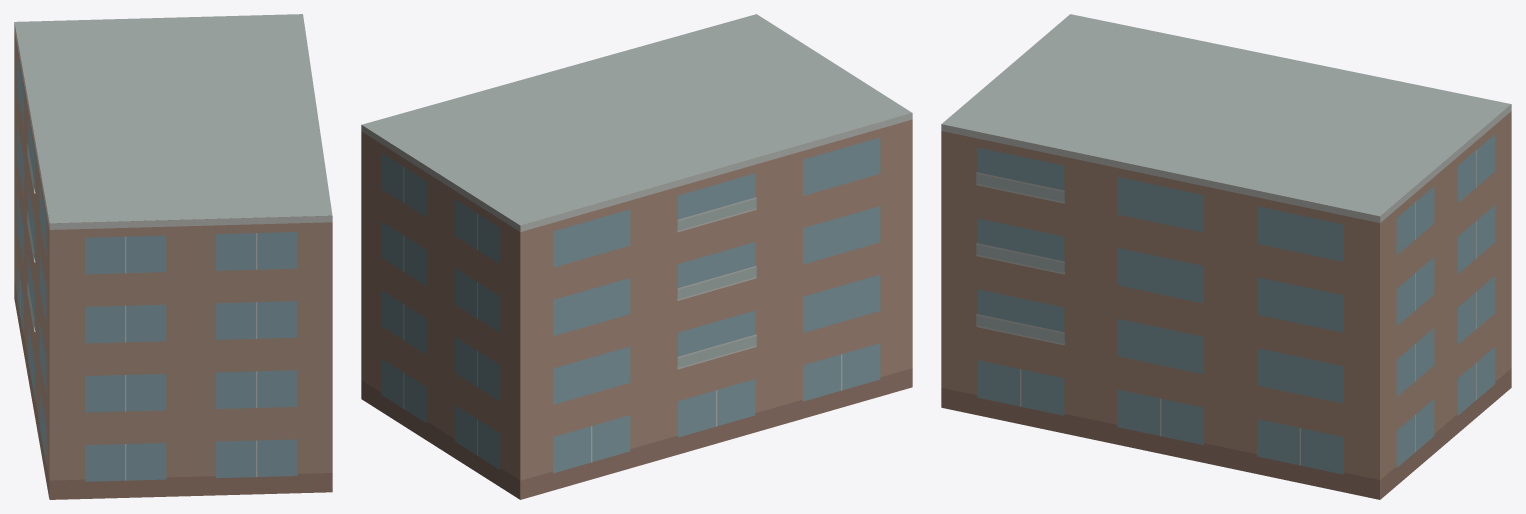
The model's file is survey-upis-32748761.glb.
3 renders of one model, left to right at view 1: azimuth 30°, elevation 25°; view 2: azimuth 150°, elevation 25°; view 3: azimuth 270°, elevation 25°, orthographic. The views are drawn at different scales.
Parts seen in each view (by area): view 1: survey-upis-32748761.tmp; view 2: survey-upis-32748761.tmp; view 3: survey-upis-32748761.tmp.
Boxes of the visible parts, x1=… form: survey-upis-32748761.tmp: x1=14, y1=14, x2=332, y2=499; survey-upis-32748761.tmp: x1=361, y1=14, x2=912, y2=499; survey-upis-32748761.tmp: x1=941, y1=14, x2=1511, y2=499.
Bounding box in the file's own units: 15.63 × 10.2 × 18.6.
